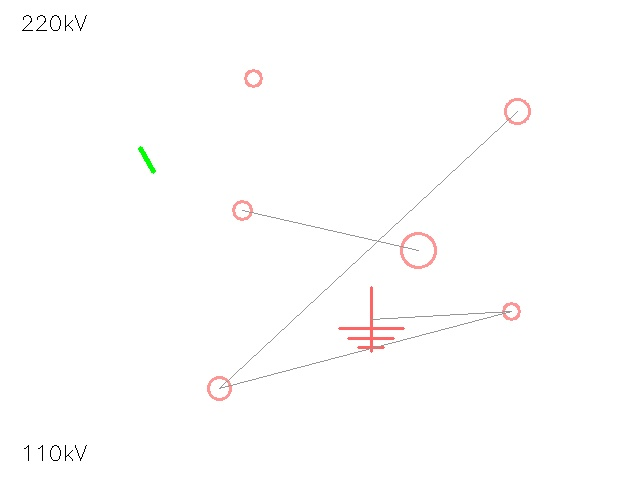busbar: (131, 144, 163, 176)
current_transformer: (197, 366, 241, 410)
disconnect_switch: (224, 192, 260, 228), (495, 295, 527, 327)
ground: (339, 287, 403, 351)
surge_arrester: (384, 216, 452, 284)
voltage_transformer: (493, 87, 541, 135), (236, 61, 270, 95)
